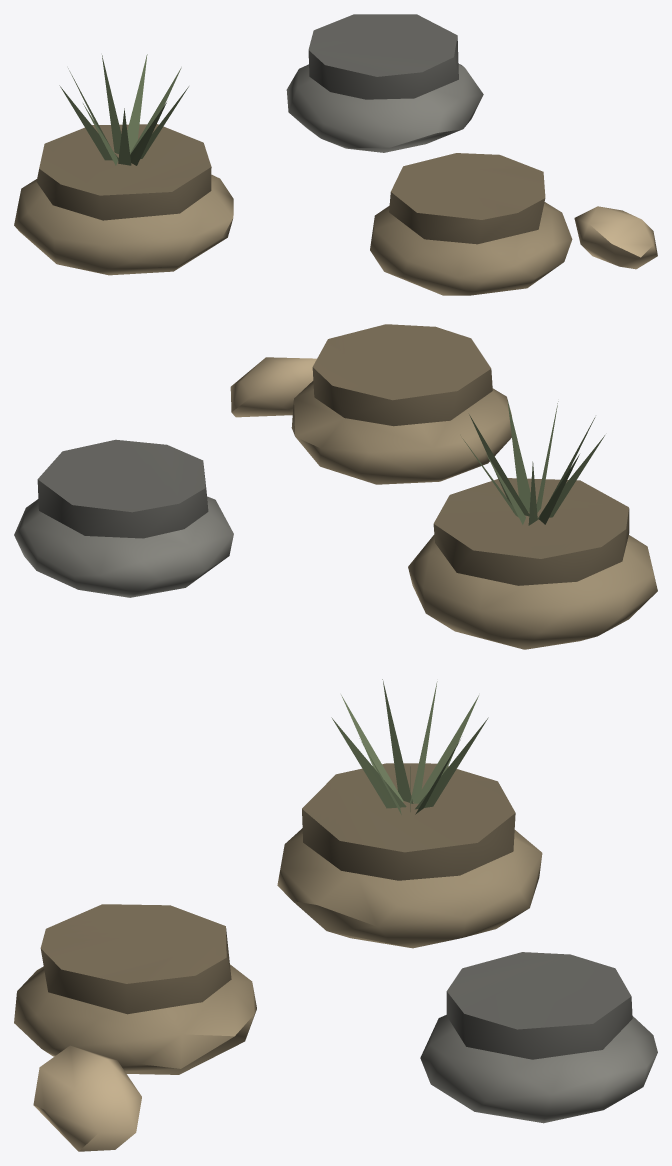
File: dish_stones_c_lod2.glb
3 renders of one model, top to bottom at view 1: azimuth 30°, elevation 25°; view 2: azimuth 150°, elevation 25°; view 3: azimuth 270°, elevation 25°, orthographic. The views are drawn at different scales.
Parts seen in each view (by area): view 1: Surface.001; view 2: Surface.001; view 3: Surface.001.
Part boxes in pixels (x1,y1,x2,y2): Surface.001: (14, 14, 657, 295); Surface.001: (14, 324, 657, 649); Surface.001: (14, 679, 657, 1151).
Bounding box in the file's own units: 2.14 × 0.7339 × 2.
